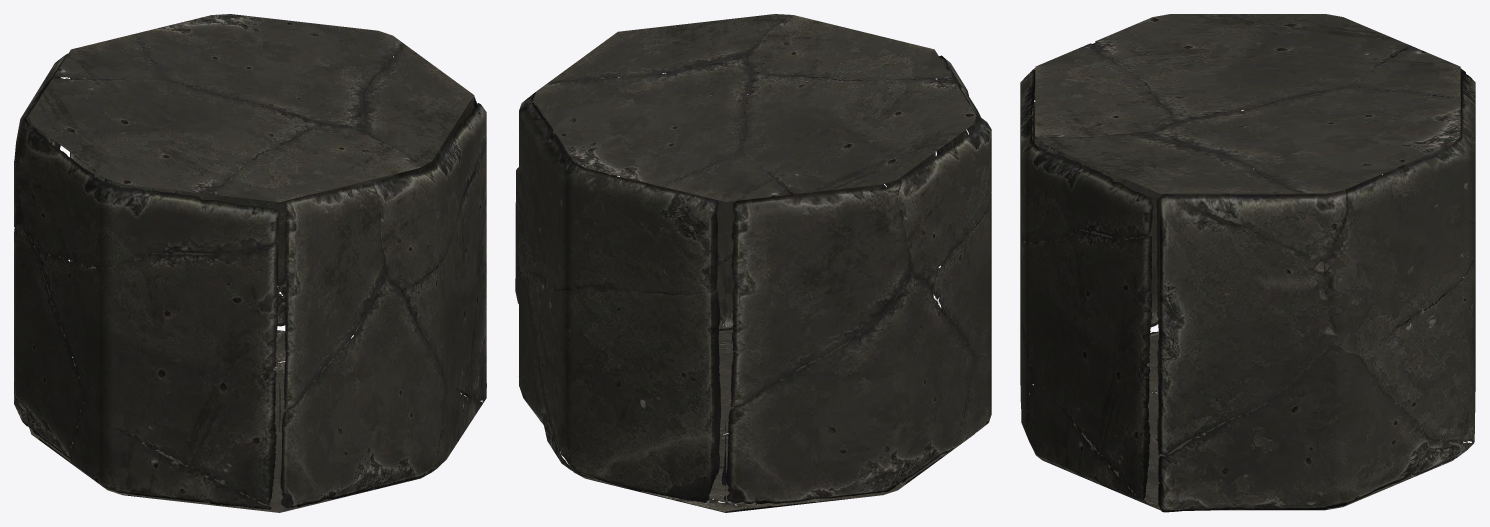
The picture shows the model from 3 angles, left to right: view 1: azimuth 30°, elevation 25°; view 2: azimuth 150°, elevation 25°; view 3: azimuth 270°, elevation 25°; orthographic projection.
Parts seen in each view (by area): view 1: SM_Greathall_Corner_05_LOD0; view 2: SM_Greathall_Corner_05_LOD0; view 3: SM_Greathall_Corner_05_LOD0.
Boxes of the visible parts, bbox=[...] form: SM_Greathall_Corner_05_LOD0: bbox=[14, 14, 486, 512]; SM_Greathall_Corner_05_LOD0: bbox=[515, 14, 991, 512]; SM_Greathall_Corner_05_LOD0: bbox=[1020, 14, 1475, 512].
Bounding box in the file's own units: 2.23 × 1.71 × 2.22.
Materials: 1 (1 with a texture image).
